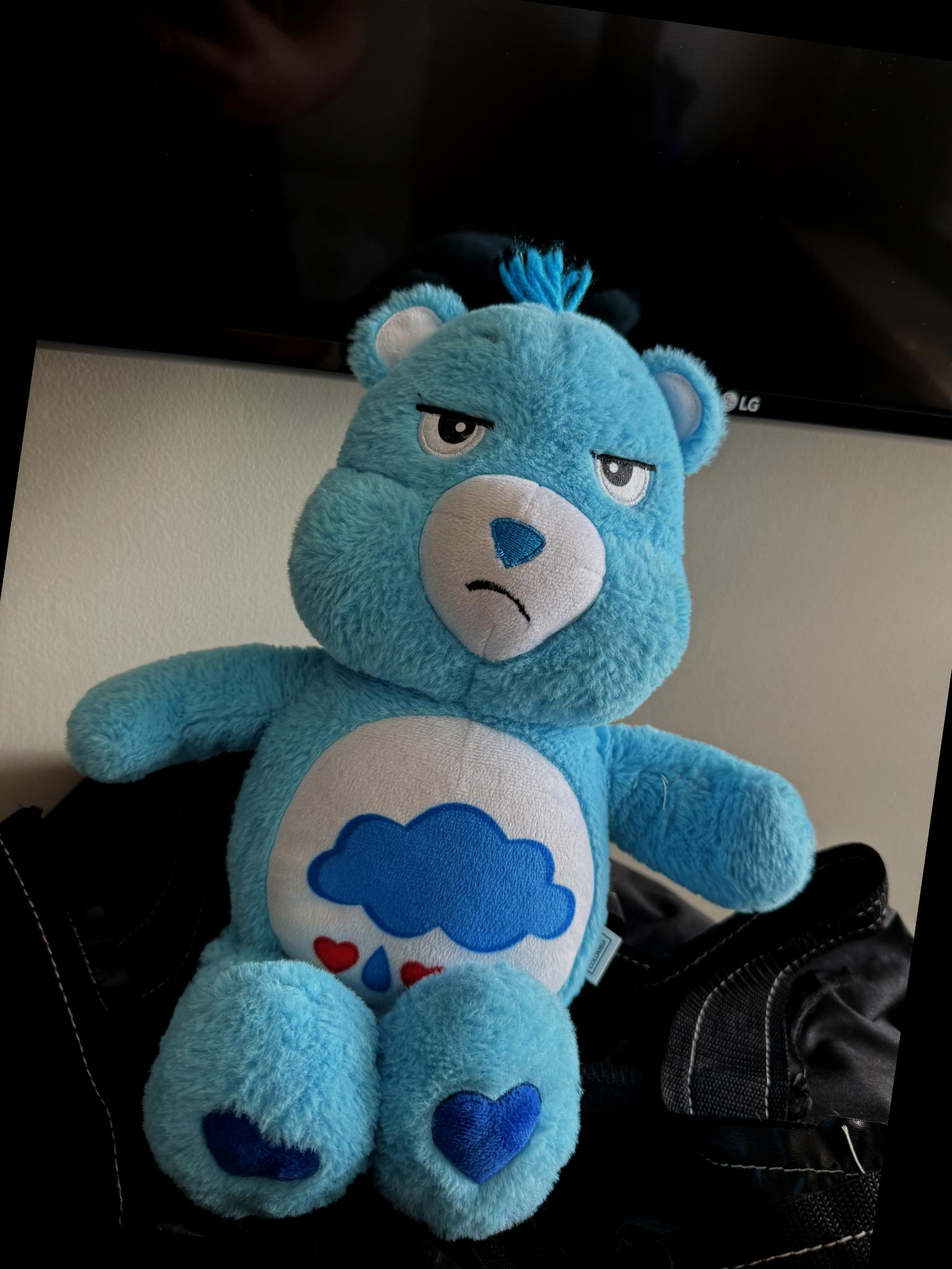peluche_Juan Jose: (0, 175, 896, 1269)
